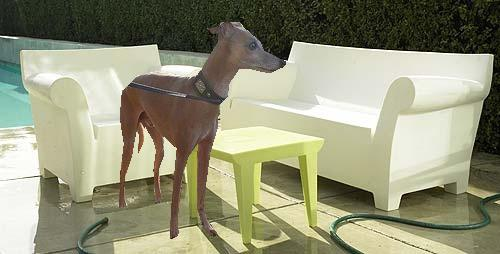tampered: (120, 23, 286, 239)
